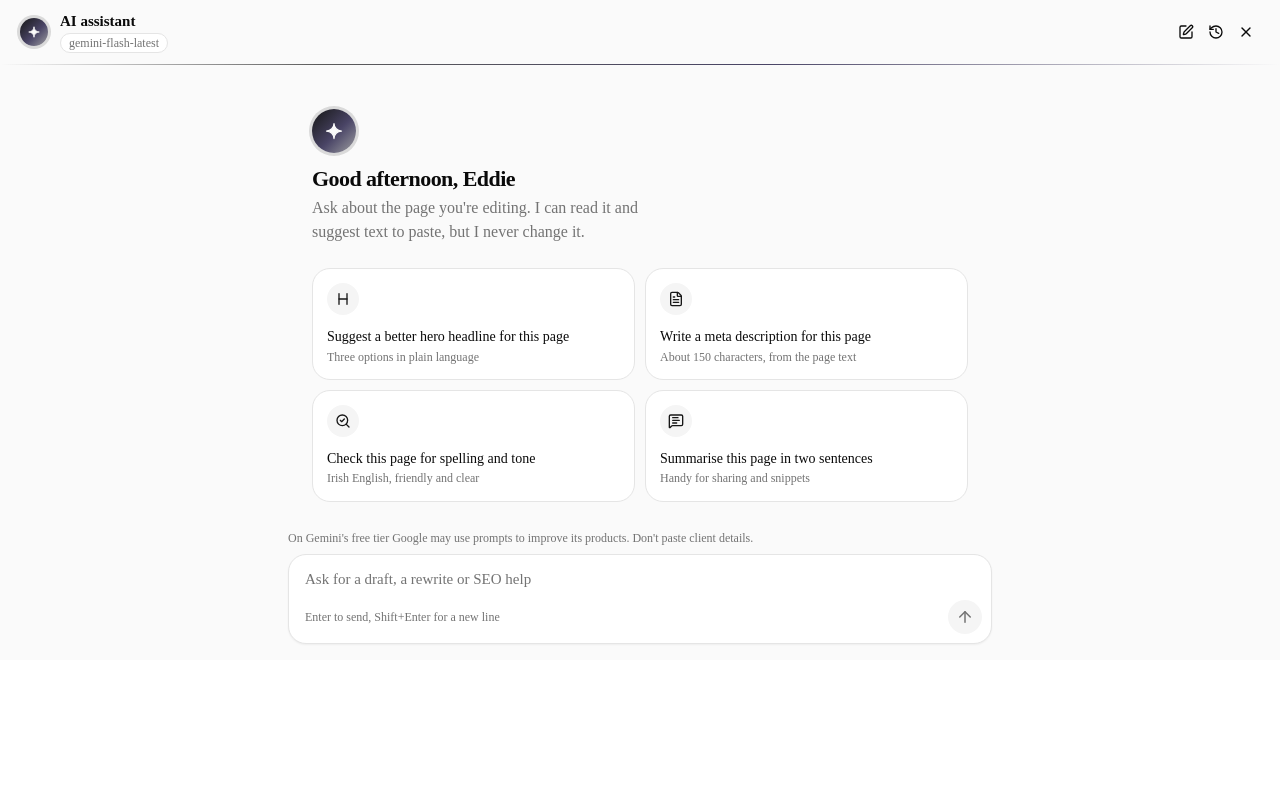
Test: AssistantPanel › offers page starters in a page editor
The width and height of the screenshot is (1280, 800).
Check: the text "the page you're editing" is shown, box [312,199,638,240]
Check: the button "Write a meta description for this page" is shown, box [645,268,968,380]
What coordinates should you click on to do the following:
click the button "Check this page for spelling and tone"
I would click on:
 (343, 421)
Its box is [312,390,635,502].
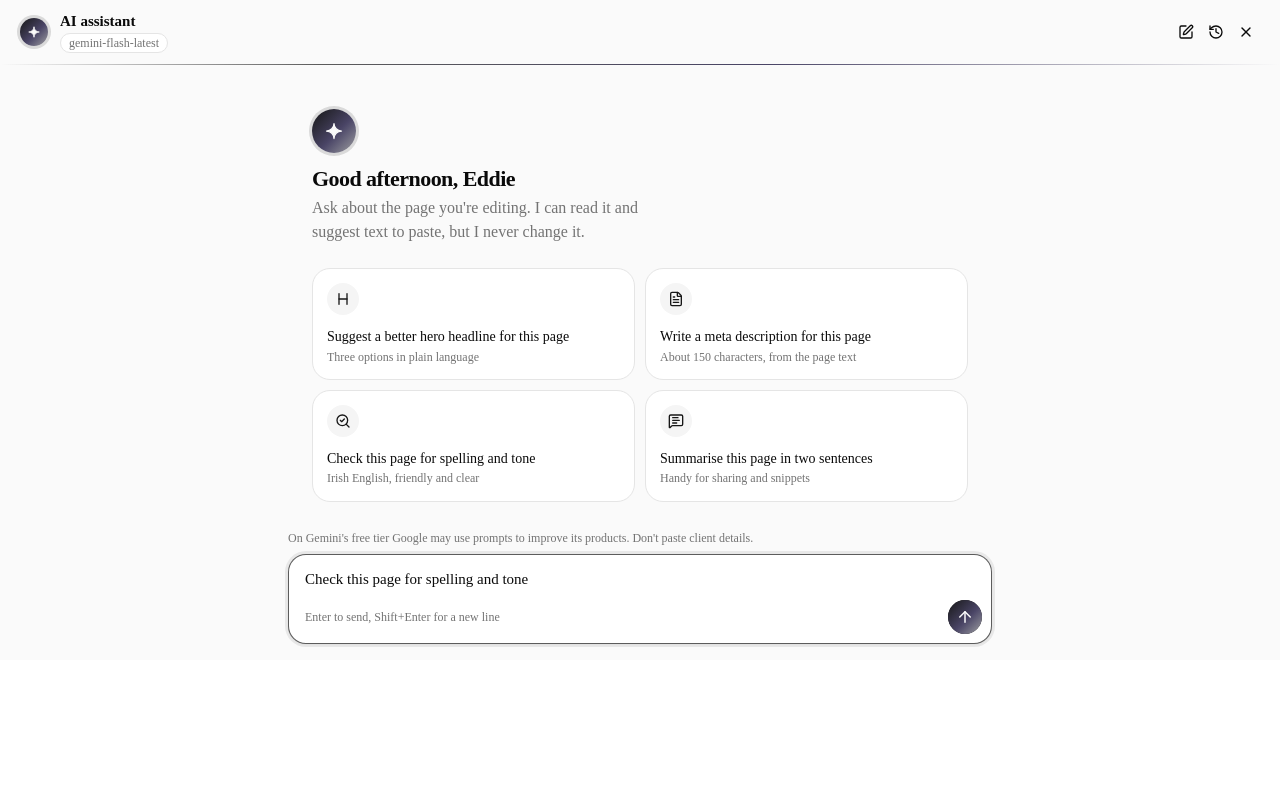
Check: the text box named "Message the AI assistant" holds "Check this page for spelling and tone", box [289,555,991,599]
